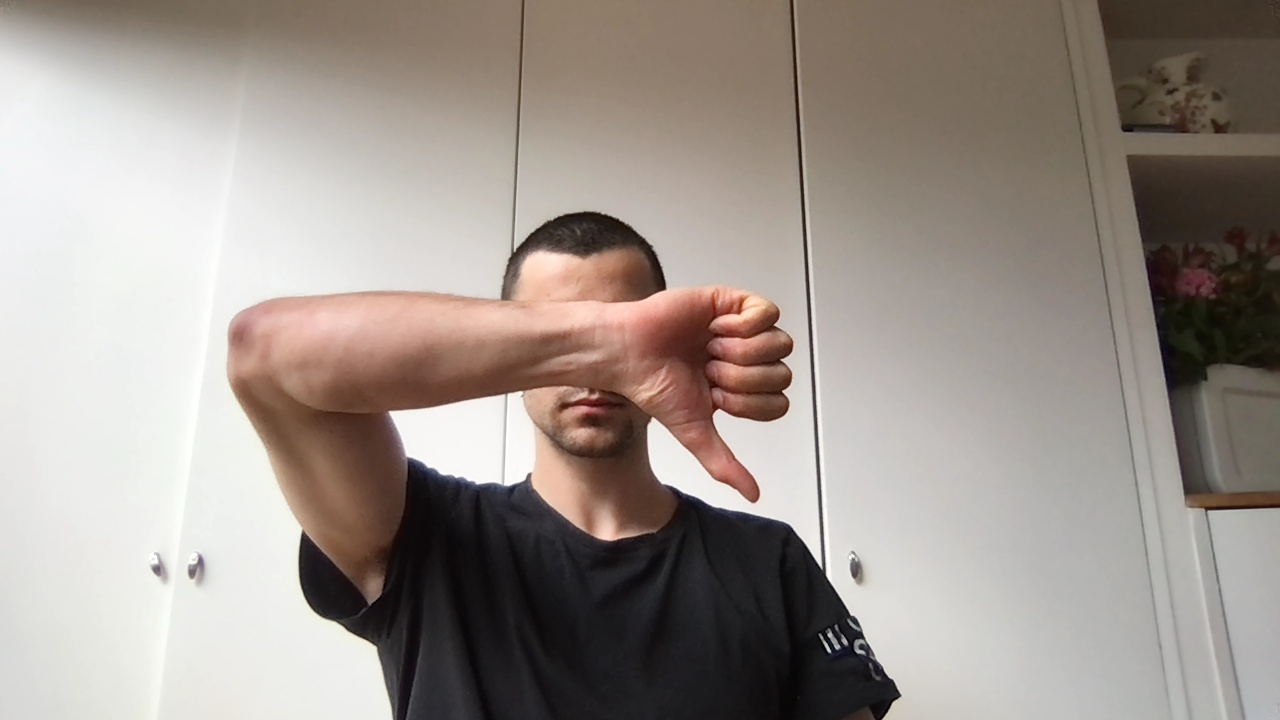thumbDown: (626, 284, 793, 504)
